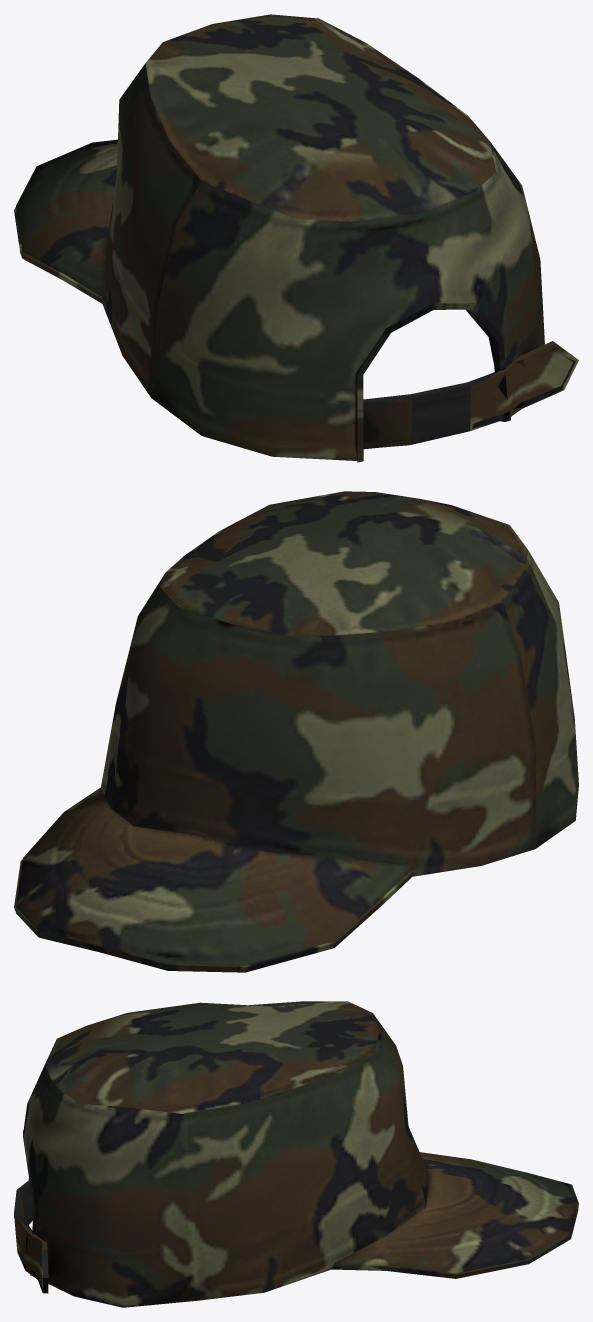
The model's file is Hat 12.FBX.
3 renders of one model, top to bottom at view 1: azimuth 30°, elevation 25°; view 2: azimuth 150°, elevation 25°; view 3: azimuth 270°, elevation 25°, orthographic. The views are drawn at different scales.
Visible parts, largest first — view 1: hat 12; view 2: hat 12; view 3: hat 12.
Part boxes in pixels (box(x1,y1,x2,y2)): hat 12: box(14, 14, 578, 462); hat 12: box(14, 491, 578, 972); hat 12: box(14, 1001, 578, 1307).
Bounding box in the file's own units: 17.99 × 31.02 × 13.3.
Materials: 1 (1 with a texture image).
